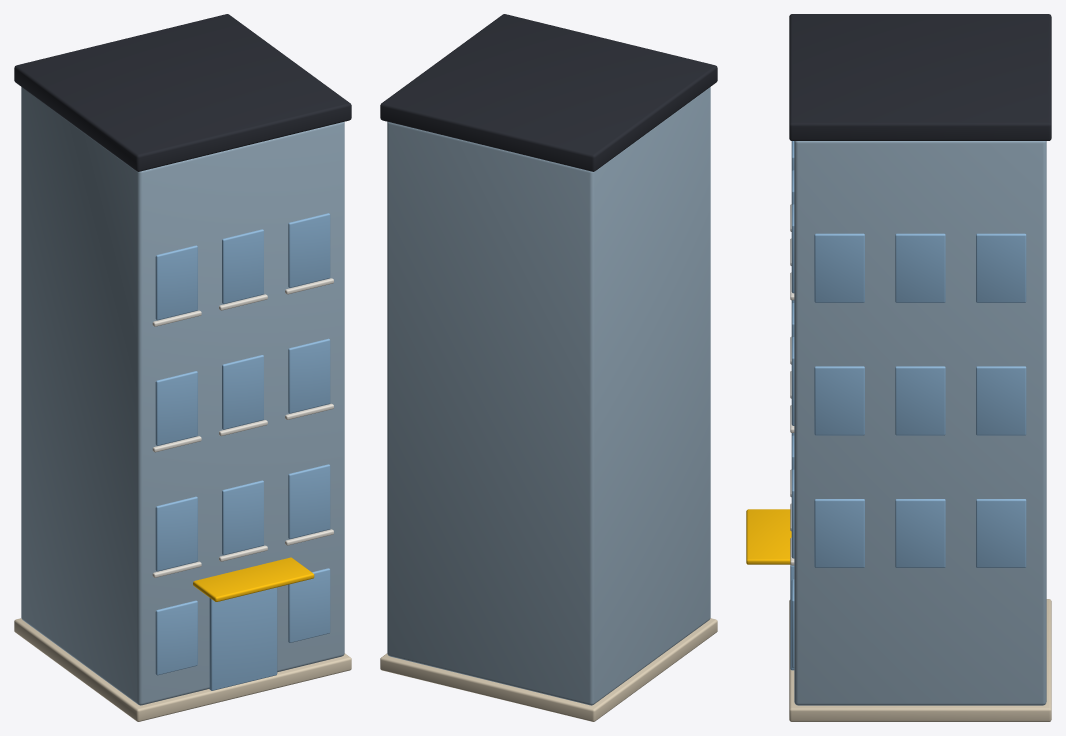
The model's file is predio.glb.
3 renders of one model, left to right at view 1: azimuth 30°, elevation 25°; view 2: azimuth 150°, elevation 25°; view 3: azimuth 270°, elevation 25°, orthographic. The views are drawn at different scales.
Parts seen in each view (by area): view 1: predio_parede, Cube.001, predio_porta, Cube, Cube.008, Cube.026, Cube.017, Cube.020, Cube.002, Cube.029, Cube.011, predio_toldo (+4 smaller); view 2: predio_parede, Cube.001, Cube; view 3: predio_parede, Cube.001, Cube, Cube.025, Cube.013, Cube.019, Cube.016, Cube.022, Cube.028, Cube.007, Cube.004, Cube.010 (+1 smaller).
Boxes of the visible parts, x1,y1,x2,y2 form: predio_parede: (21, 87, 344, 705); Cube.001: (14, 14, 351, 171); predio_porta: (209, 587, 277, 690); Cube: (14, 618, 351, 721); Cube.008: (288, 464, 330, 538); Cube.026: (288, 213, 330, 287); Cube.017: (288, 338, 330, 413); Cube.020: (155, 245, 197, 320); Cube.002: (155, 496, 197, 571); Cube.029: (155, 600, 197, 675); Cube.011: (155, 371, 197, 445); predio_toldo: (193, 557, 314, 601); predio_parede: (387, 87, 710, 705); Cube.001: (380, 14, 717, 171); Cube: (380, 618, 717, 721); predio_parede: (794, 141, 1046, 705); Cube.001: (789, 14, 1051, 140); Cube: (789, 599, 1051, 721); Cube.025: (895, 233, 945, 302); Cube.013: (814, 366, 864, 435); Cube.019: (976, 366, 1026, 435); Cube.016: (895, 366, 945, 435); Cube.022: (814, 233, 864, 302); Cube.028: (976, 233, 1026, 302); Cube.007: (895, 499, 945, 567); Cube.004: (814, 499, 864, 567); Cube.010: (976, 499, 1026, 567).
Bounding box in the file's own units: 5.2 × 13.1 × 6.05.
